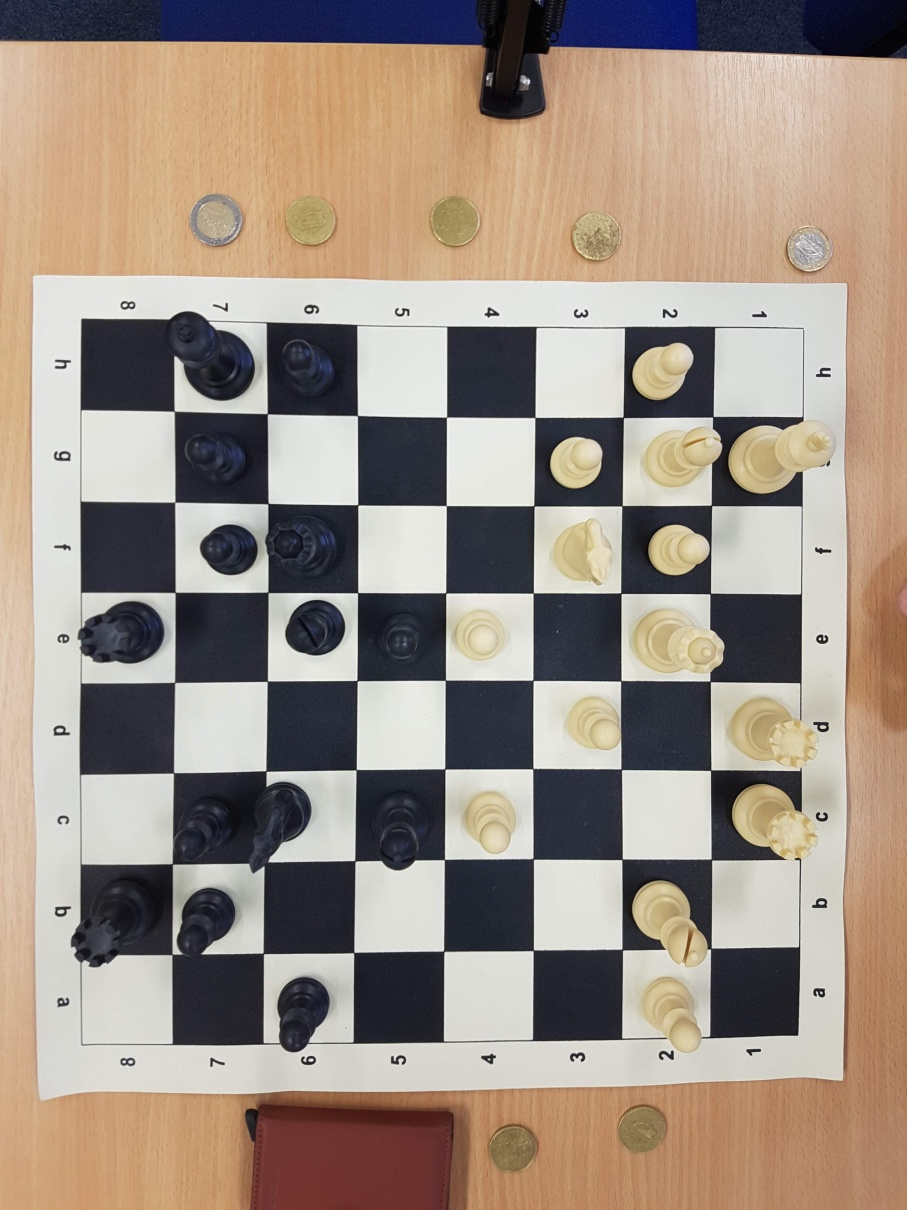chess_bishop: (633, 881, 707, 966), (644, 428, 721, 489), (371, 792, 428, 870), (285, 602, 345, 656)
chess_king: (727, 419, 837, 495), (166, 312, 255, 401)
chess_knight: (248, 781, 310, 872), (554, 521, 611, 585)
chess_pawn: (644, 977, 700, 1052), (176, 888, 235, 956), (277, 976, 328, 1052), (631, 341, 693, 401), (175, 799, 235, 860), (647, 523, 710, 577), (184, 434, 248, 487), (200, 524, 259, 576), (280, 339, 333, 396), (467, 794, 515, 852), (567, 698, 620, 750), (551, 436, 603, 488), (455, 611, 503, 660), (380, 614, 424, 664)
chess_queen: (634, 609, 723, 674), (267, 516, 338, 579)
chess_rook: (70, 881, 156, 968), (733, 784, 819, 863), (729, 699, 817, 768), (78, 601, 165, 666)
